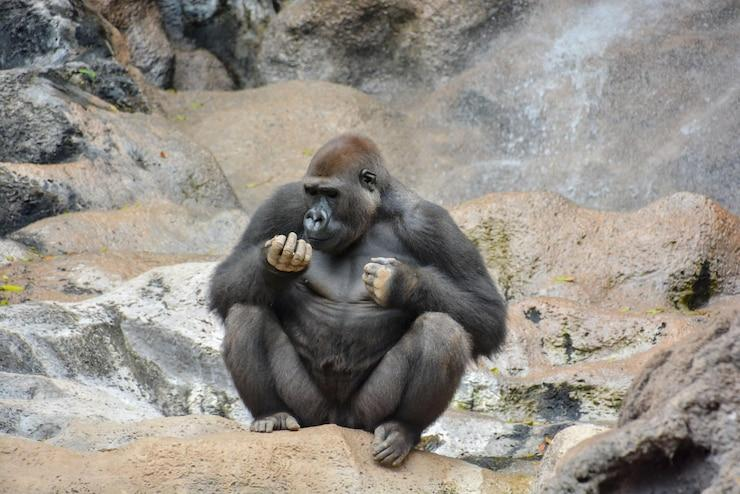gorille_Autres: (189, 103, 508, 467)
